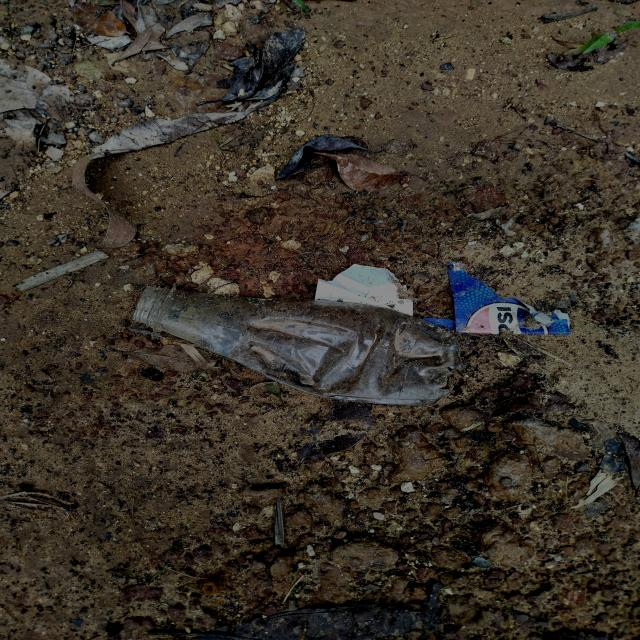plastic: (132, 271, 477, 436)
